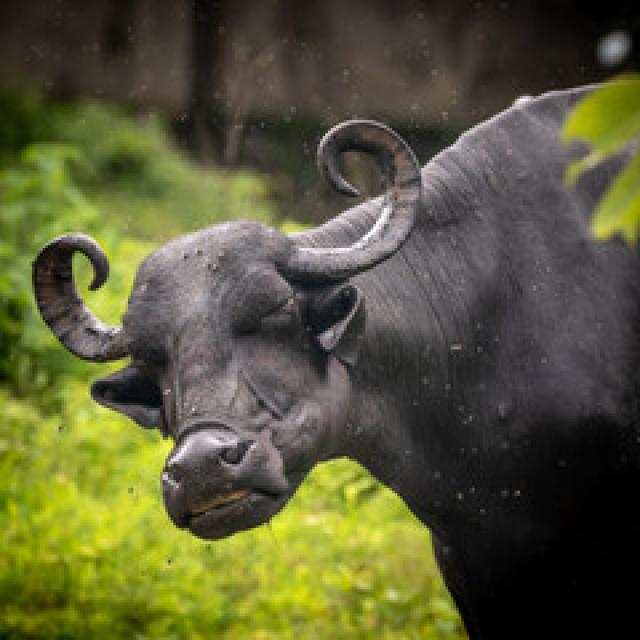Buffalo: (27, 70, 637, 638)
